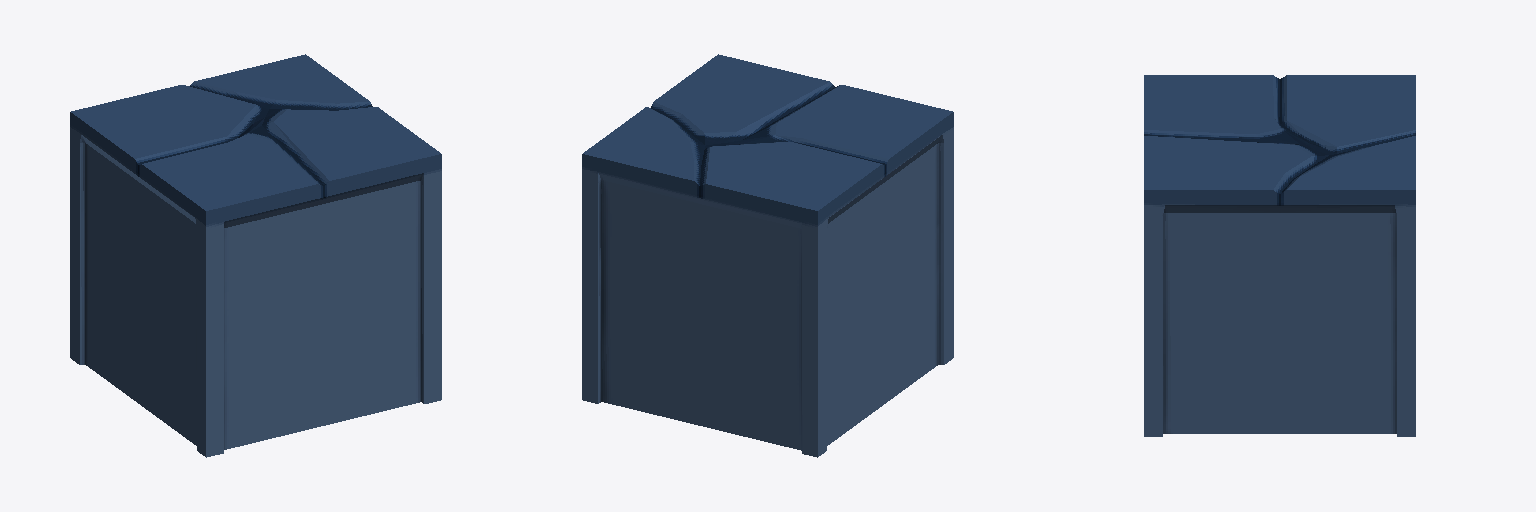
The picture shows the model from 3 angles: view 1: azimuth 30°, elevation 25°; view 2: azimuth 150°, elevation 25°; view 3: azimuth 270°, elevation 25°; orthographic projection.
Visible parts, largest first — view 1: pCube1; view 2: pCube1; view 3: pCube1.
Part boxes in pixels (left/top/right/bottom): pCube1: left=70, top=54, right=441, bottom=457; pCube1: left=582, top=54, right=953, bottom=457; pCube1: left=1144, top=75, right=1415, bottom=436.
Size of the model in its own units: 3 by 3 by 3.
1 materials, 1 textured.